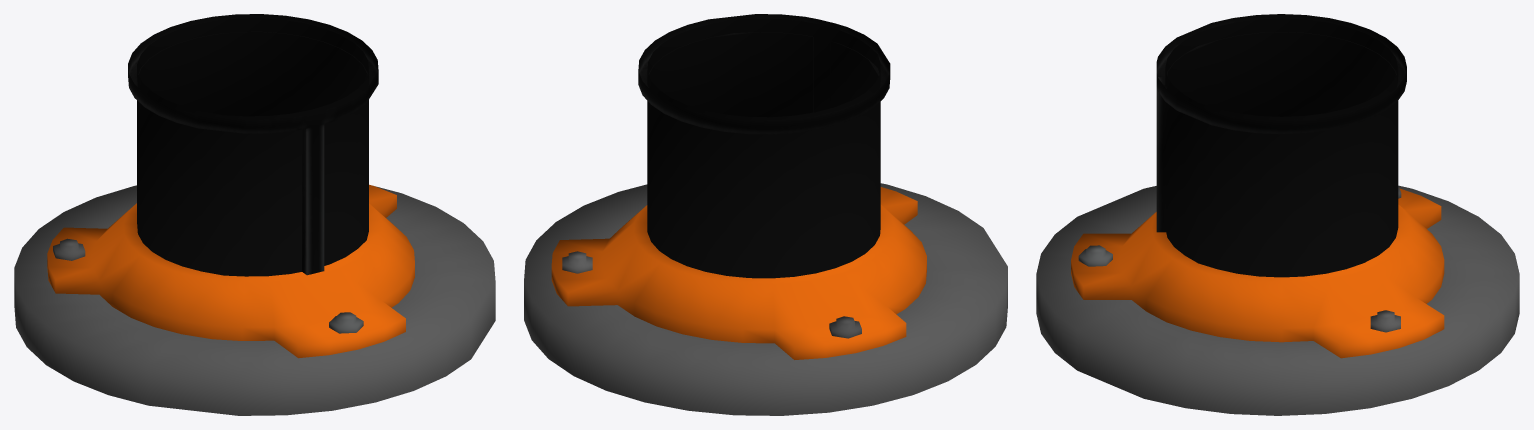
3 views of the same model, side by side, from view 1: azimuth 30°, elevation 25°; view 2: azimuth 150°, elevation 25°; view 3: azimuth 270°, elevation 25° (orthographic).
Parts seen in each view (by area): view 1: Object_94.470; view 2: Object_94.470; view 3: Object_94.470.
Part boxes in pixels (<box>): Object_94.470: <box>14,14,495,415</box>; Object_94.470: <box>524,14,1007,415</box>; Object_94.470: <box>1036,14,1519,415</box>.
Size of the model in its own units: 4.02 by 4.02 by 2.27.
7 materials, 1 textured.
